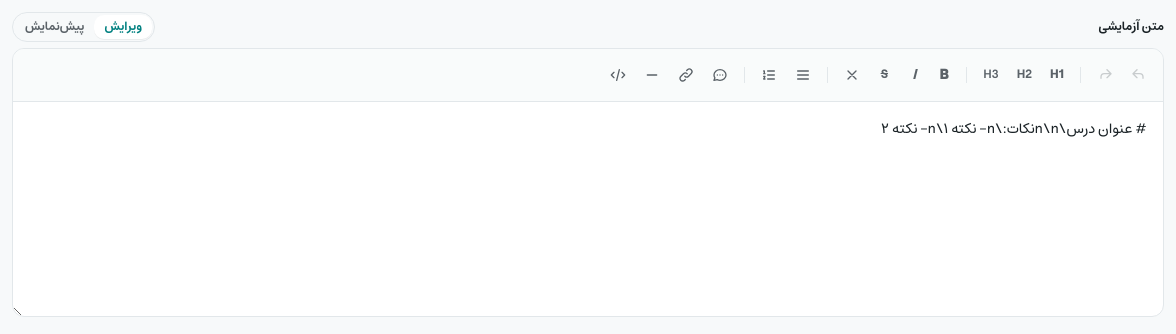
Test: RichTextEditor Component Suite › switches to Preview tab and renders exact Markdown output
The image size is (1176, 334).
Click the button with aria-label "پیش‌نمایش خروجی برای دانشجو" at (55, 27), box [15,15,94,39]
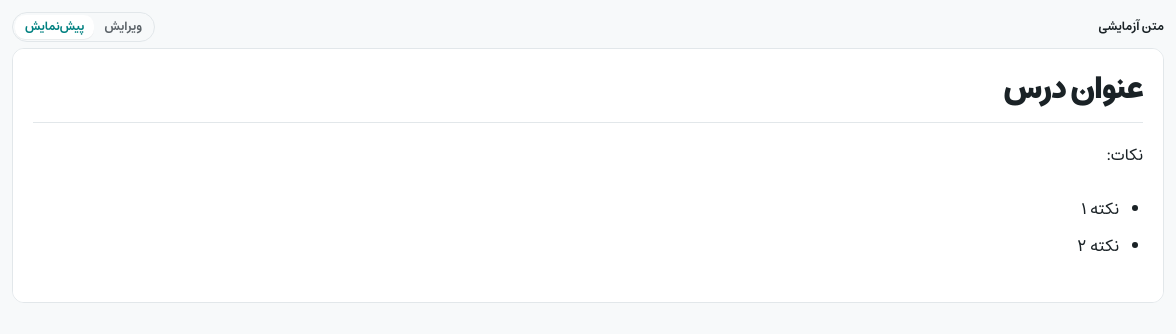
Check: the heading reads "عنوان درس", box [1004,63,1143,116]
Check: the list item "نکته ۱" is shown, box [1081,195,1119,223]
